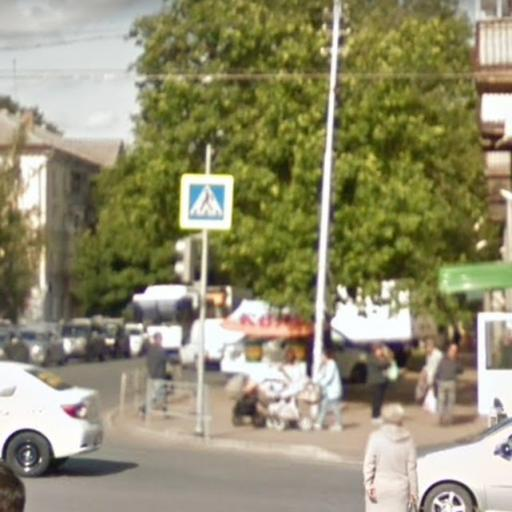traffic_sign: (176, 172, 237, 234)
